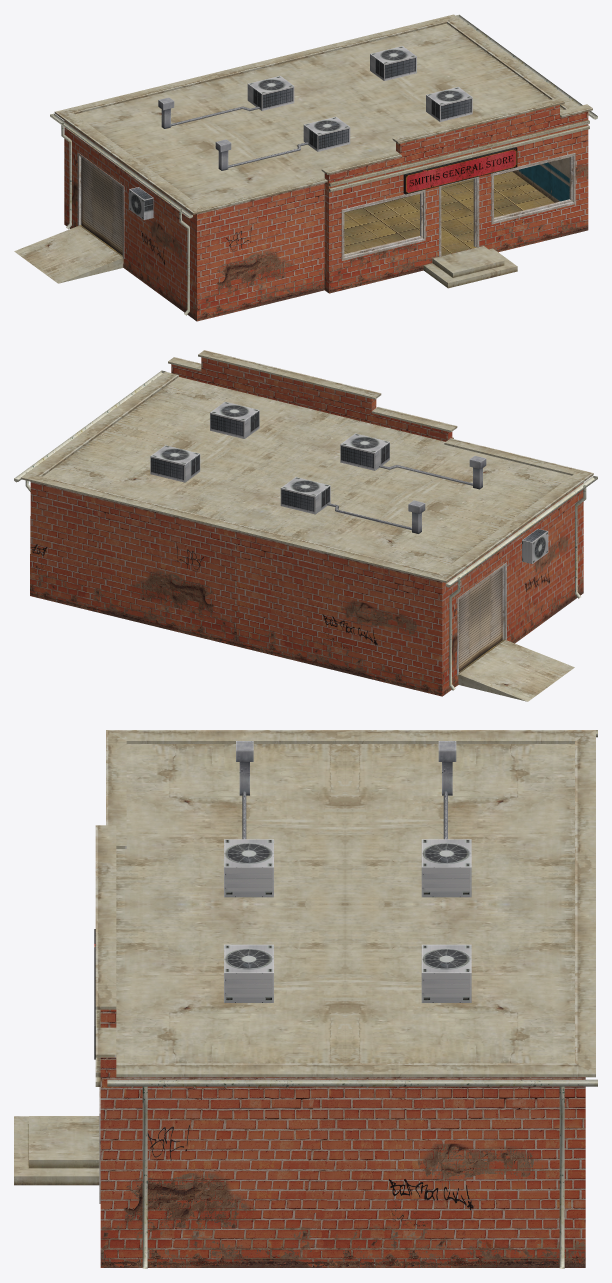
The model's file is shop.FBX.
3 views of the same model, one above another, from view 1: azimuth 30°, elevation 25°; view 2: azimuth 150°, elevation 25°; view 3: azimuth 270°, elevation 25° (orthographic). The views are drawn at different scales.
Visible parts, largest first — view 1: shop, backDoors; view 2: shop, backDoors; view 3: shop.
Part boxes in pixels (bbox=[...]): shop: bbox=[14, 14, 597, 321]; backDoors: bbox=[81, 157, 122, 255]; shop: bbox=[14, 350, 597, 701]; backDoors: bbox=[459, 567, 502, 671]; shop: bbox=[14, 730, 597, 1268].
Size of the model in its own units: 445 by 126 by 274.
